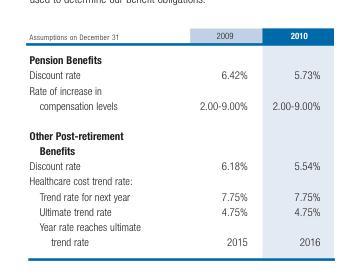table: (28, 29, 319, 247)
table column: (28, 29, 169, 247), (169, 29, 259, 247), (259, 29, 319, 247)
table column header: (28, 29, 319, 46)
table projected row header: (28, 119, 319, 157), (28, 46, 319, 66), (28, 172, 319, 188)
table row: (28, 119, 319, 157), (28, 82, 319, 119), (28, 218, 319, 247), (28, 46, 319, 66), (28, 29, 319, 46), (28, 66, 319, 82), (28, 172, 319, 188), (28, 157, 319, 172), (28, 188, 319, 203), (28, 203, 319, 218)
